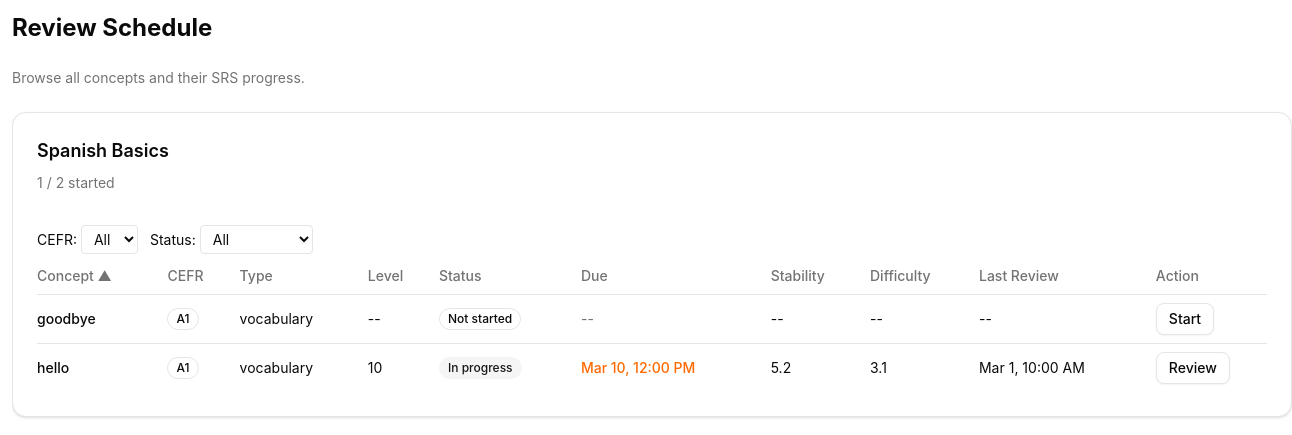
Test case: ReviewSchedulePage › filters by status
Expected: the text "hello" is shown, left=37, top=344, right=168, bottom=392
Select "Not started" in the dropdown labelled "Status:" at x=256, y=240, box left=200, top=225, right=313, bottom=254
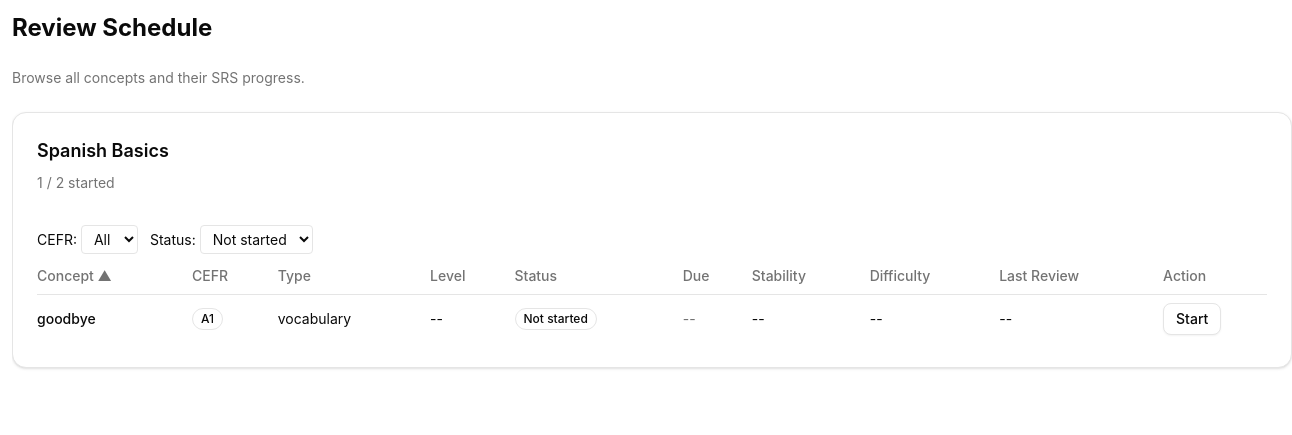
Expected: the text "goodbye" is shown, left=37, top=294, right=192, bottom=343
Expected: the text "hello" is gone
